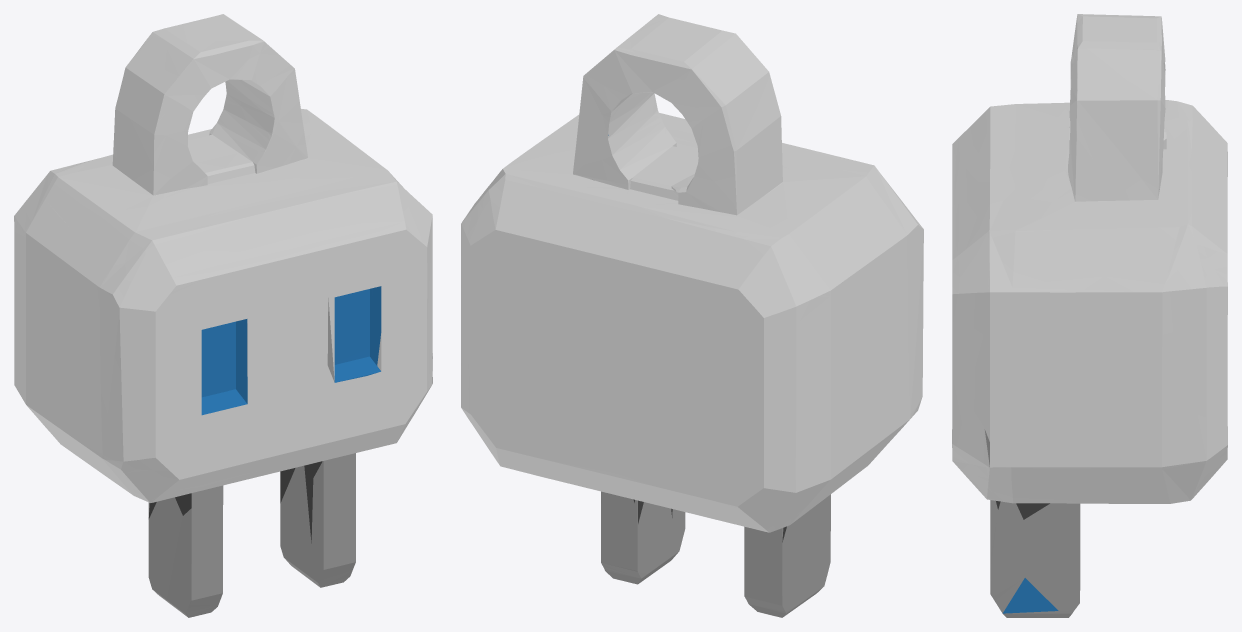
Rendered from aki_charm.glb.
The picture shows the model from 3 angles, left to right: view 1: azimuth 30°, elevation 25°; view 2: azimuth 150°, elevation 25°; view 3: azimuth 270°, elevation 25°; orthographic projection. The views are drawn at different scales.
Visible parts, largest first — view 1: node_0; view 2: node_0; view 3: node_0.
Part boxes in pixels (left/top/right/bottom): node_0: left=14, top=14, right=432, bottom=617; node_0: left=461, top=14, right=923, bottom=617; node_0: left=952, top=14, right=1227, bottom=617.
Size of the model in its own units: 0.6406 by 1 by 0.4561.
